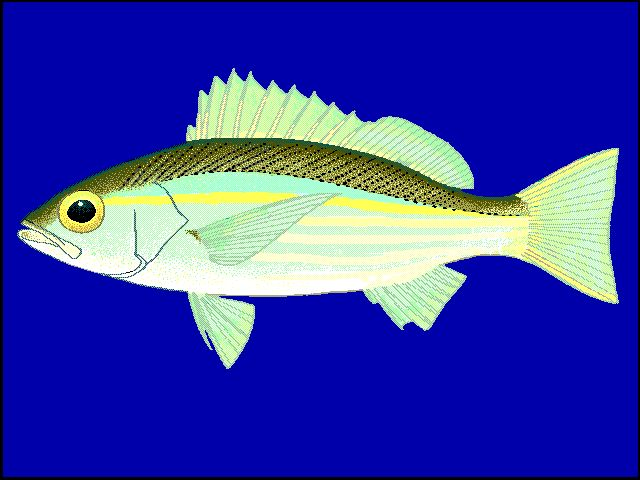fish: (17, 67, 621, 371)
